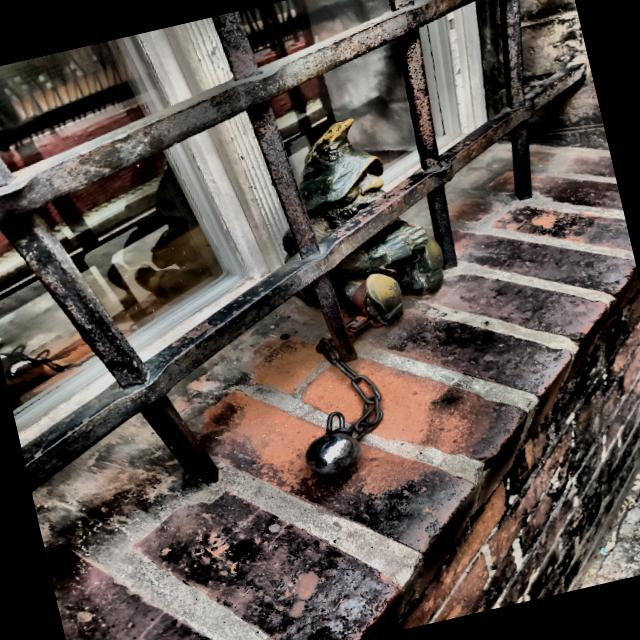Wiezien: (330, 219, 443, 337), (305, 337, 383, 478), (299, 118, 384, 238), (282, 230, 298, 259), (297, 285, 318, 305)
